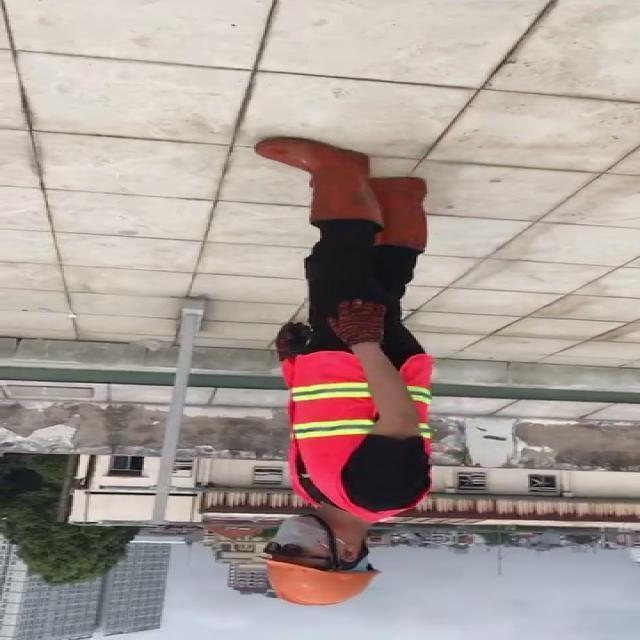gloves: (329, 297, 390, 350)
